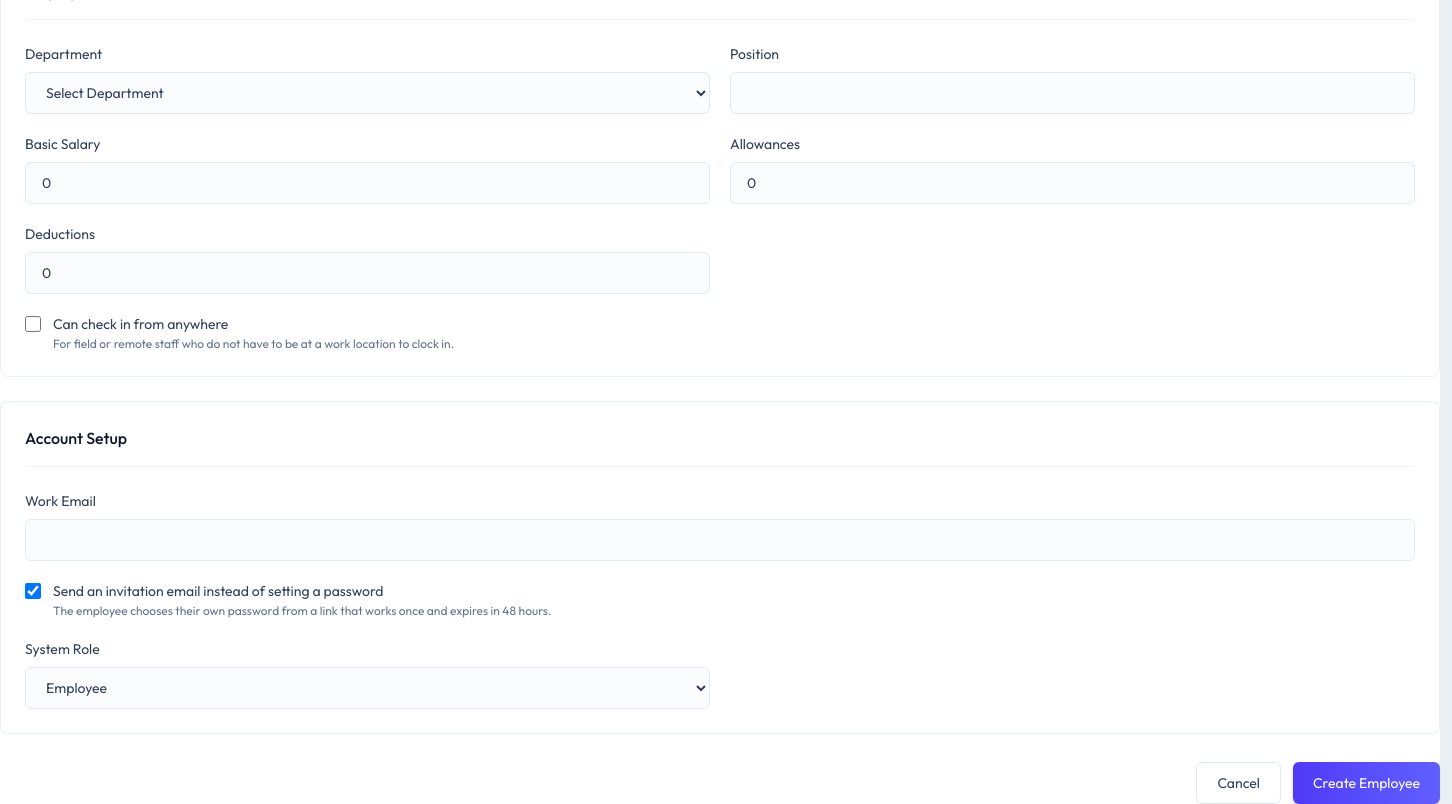
Scenario: EmployeeForm › shows every required-field message on an empty submit
The image size is (1452, 804).
(page scrolled)
Check: the checkbox labelled "Send an invitation email instead of setting a password" is shown, box [25,583,41,599]
Click the button "Create Employee": (1366, 783) [1293,762,1440,803]
(page scrolled)
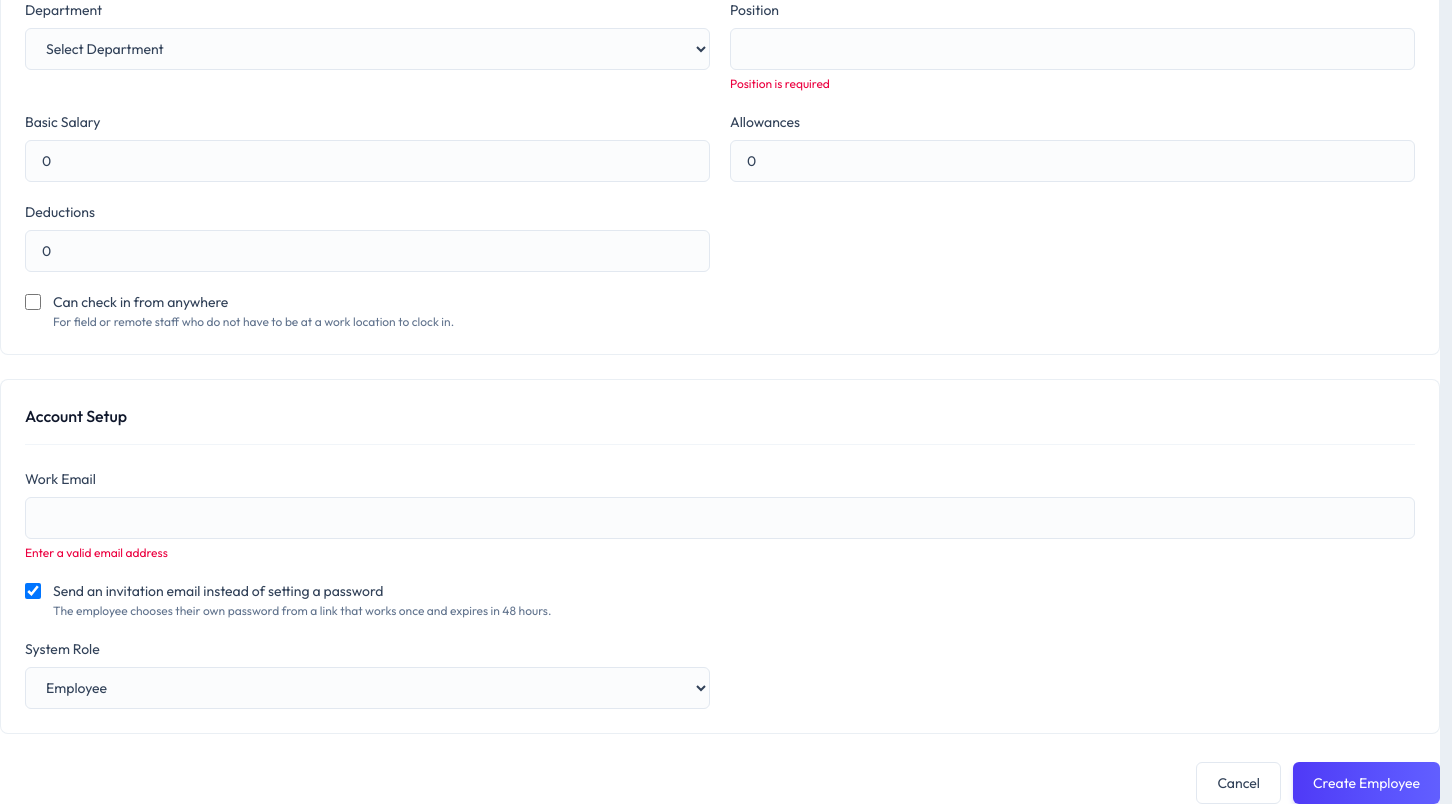
Check: the text "Position is required" is shown, box [730,76,830,91]
Check: the text "Enter a valid email address" is shown, box [25,545,168,560]
